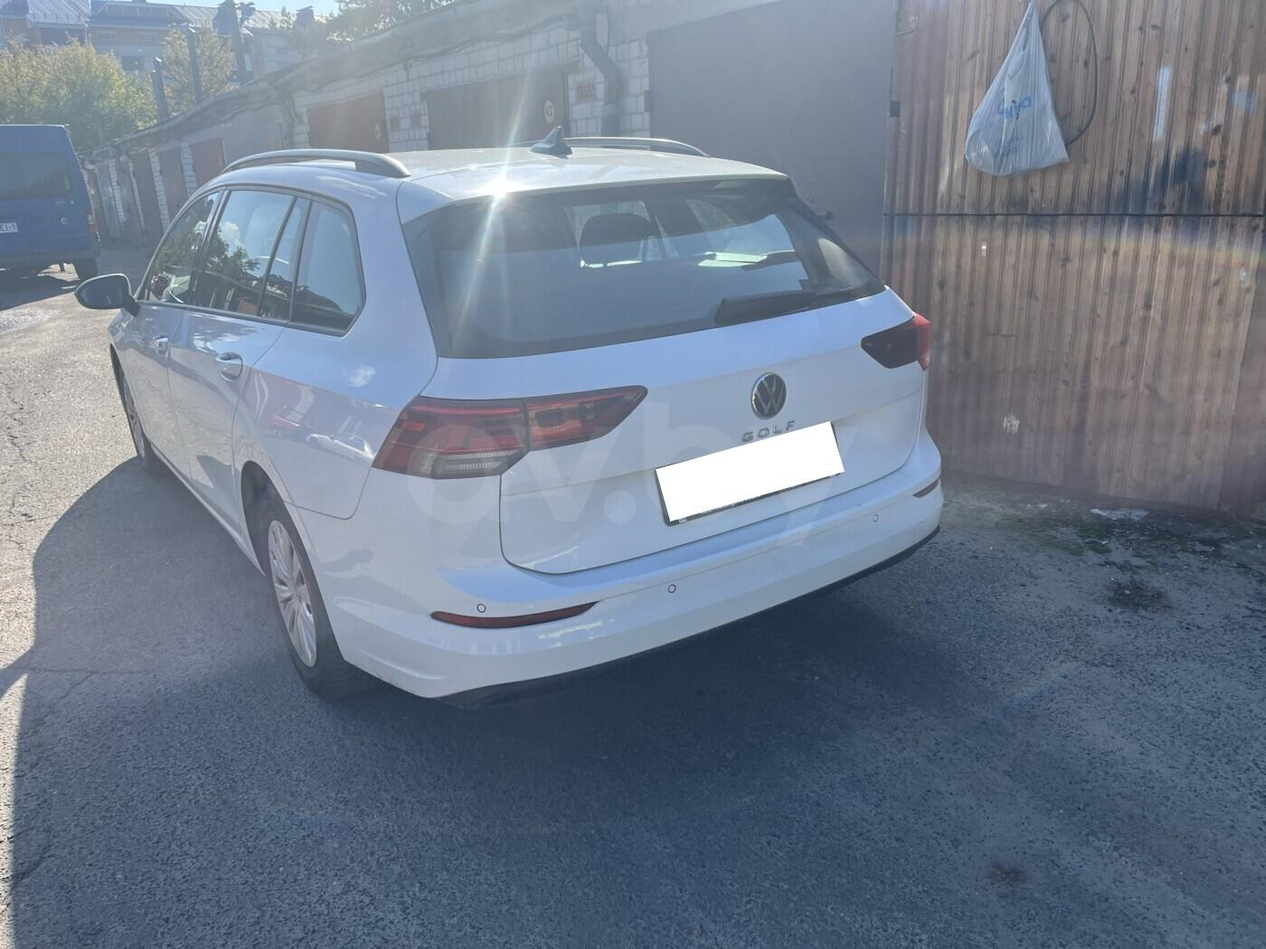Golf_2019: (75, 142, 944, 699)
